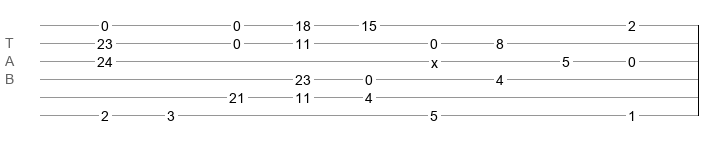0: (101, 18, 109, 28), (233, 18, 241, 28), (233, 36, 241, 46), (365, 72, 373, 82), (430, 36, 438, 46), (628, 54, 636, 64)
1: (628, 108, 636, 118)
11: (295, 90, 311, 100), (295, 36, 311, 46)
15: (361, 18, 377, 28)
18: (295, 18, 311, 28)
2: (101, 108, 109, 118), (628, 18, 636, 28)
21: (229, 90, 245, 100)
23: (97, 36, 113, 46), (295, 72, 311, 82)
24: (97, 54, 113, 64)
3: (167, 108, 175, 118)
4: (365, 90, 373, 100), (496, 72, 504, 82)
5: (430, 108, 438, 118), (562, 54, 570, 64)
8: (496, 36, 504, 46)
x: (431, 55, 438, 63)
